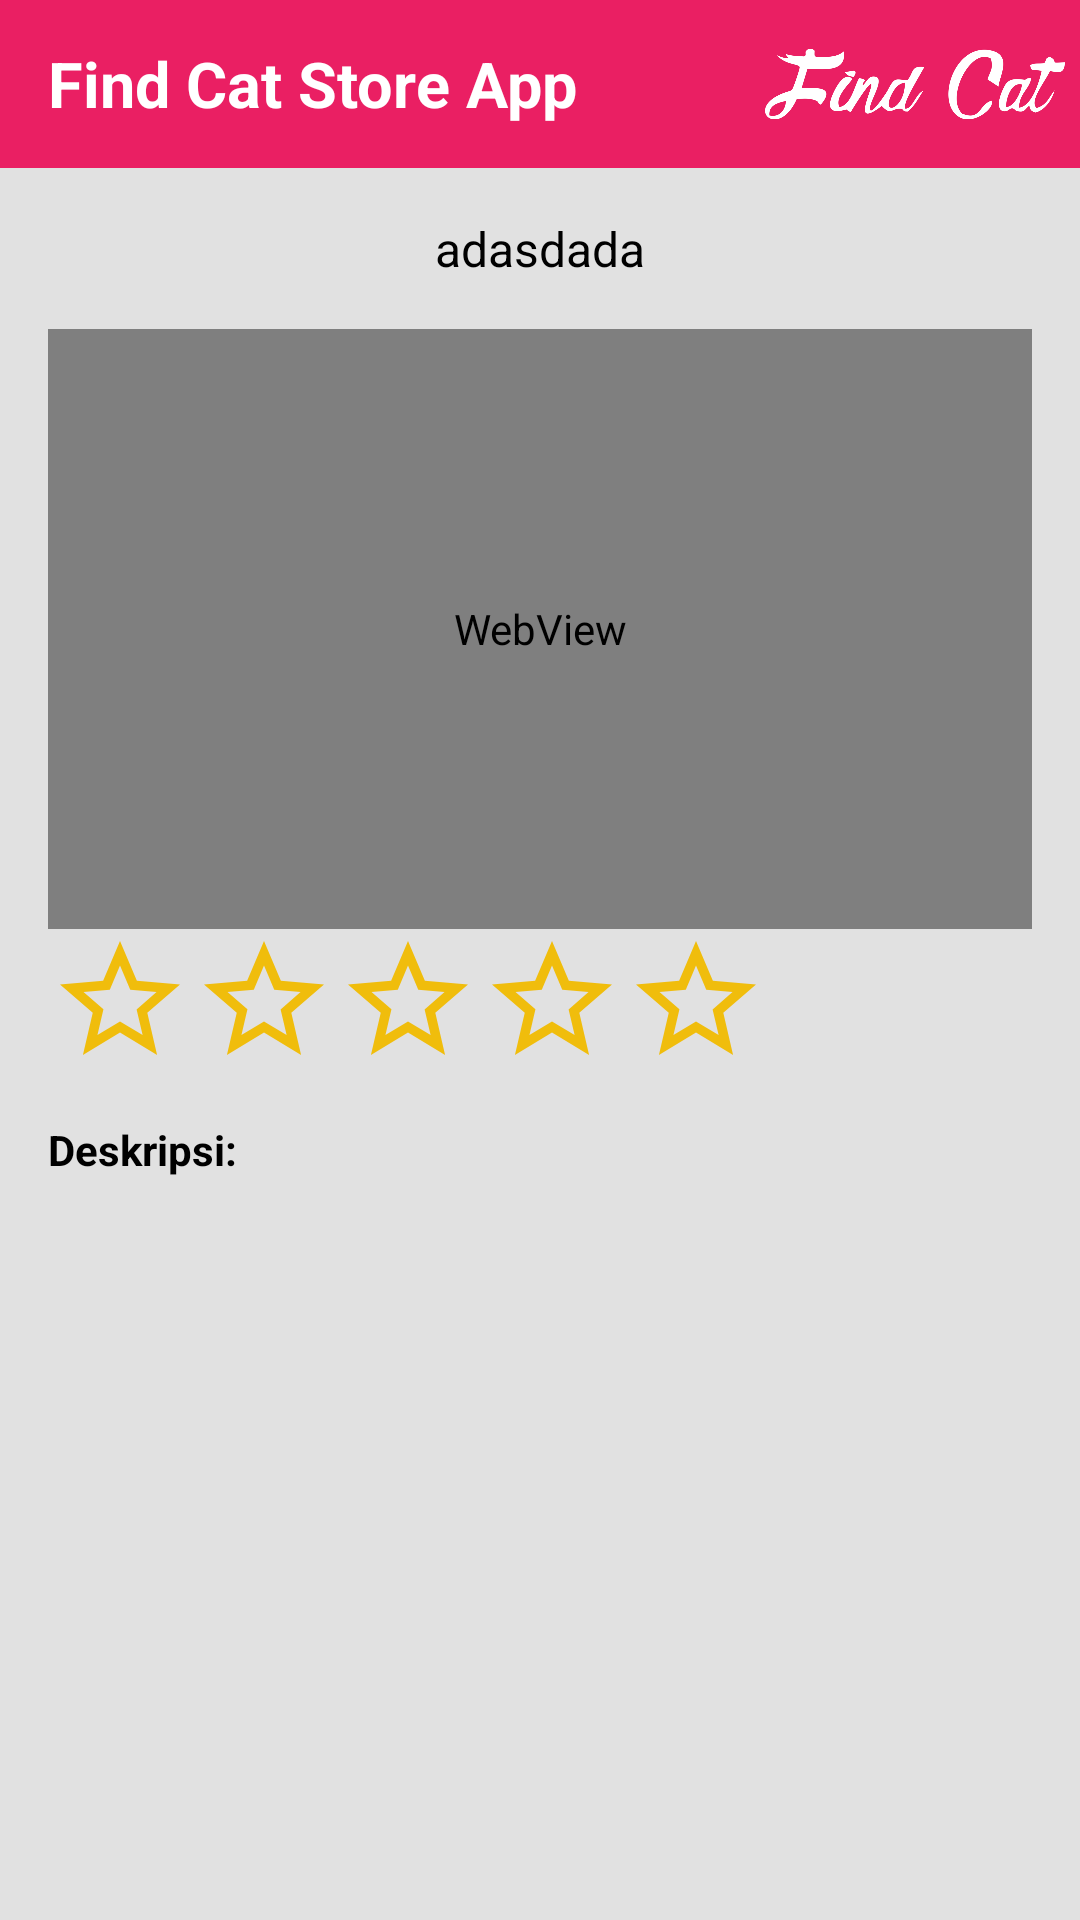

Point at icon controls on the screen. Image size 1080w x 1920h, points as [x,y].
star border: [120,998], [264,998], [408,998], [552,998], [696,998]
